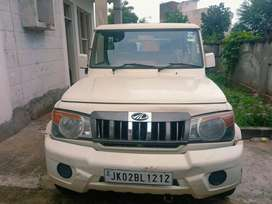JK02BL1212: (104, 169, 171, 185)
